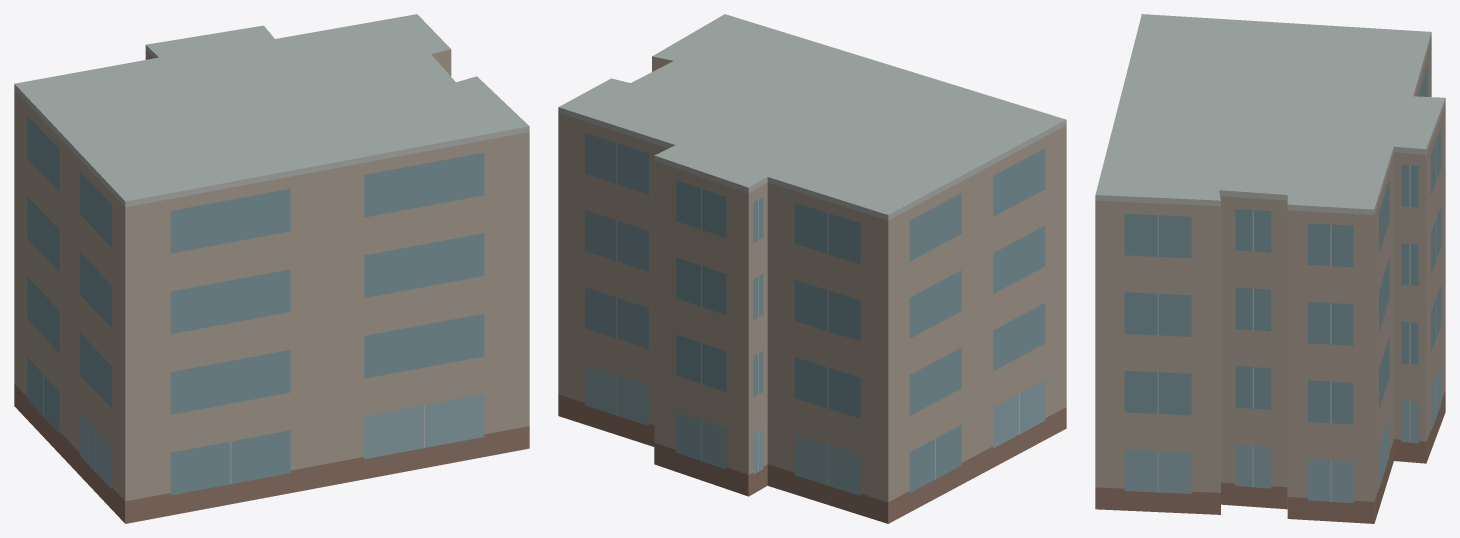
File: survey-upis-32692214.glb
The picture shows the model from 3 angles, left to right: view 1: azimuth 30°, elevation 25°; view 2: azimuth 150°, elevation 25°; view 3: azimuth 270°, elevation 25°; orthographic projection. The views are drawn at different scales.
Visible parts, largest first — view 1: survey-upis-32692214.tmp; view 2: survey-upis-32692214.tmp; view 3: survey-upis-32692214.tmp.
Boxes of the visible parts, x1,y1,x2,y2 form: survey-upis-32692214.tmp: (14, 14, 529, 523); survey-upis-32692214.tmp: (558, 14, 1066, 523); survey-upis-32692214.tmp: (1095, 14, 1445, 523).
Size of the model in its own units: 18.1 by 13.55 by 13.69.
